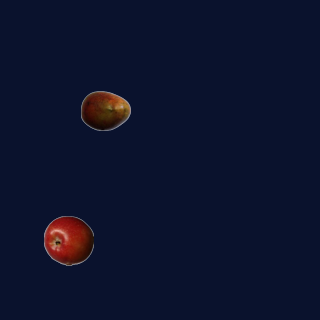Apple Braeburn: (43, 215, 93, 265)
Mango Red: (80, 85, 130, 135)
